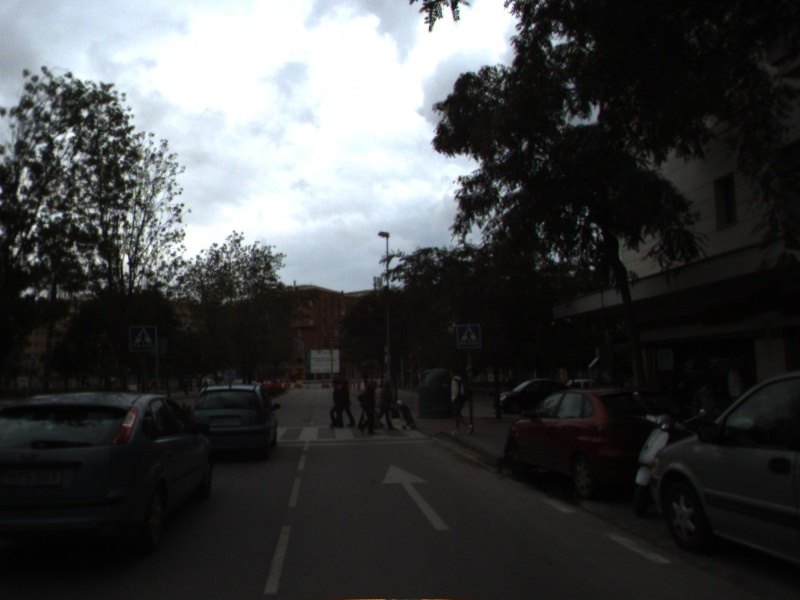STRAIGHT: (380, 463, 451, 532)
